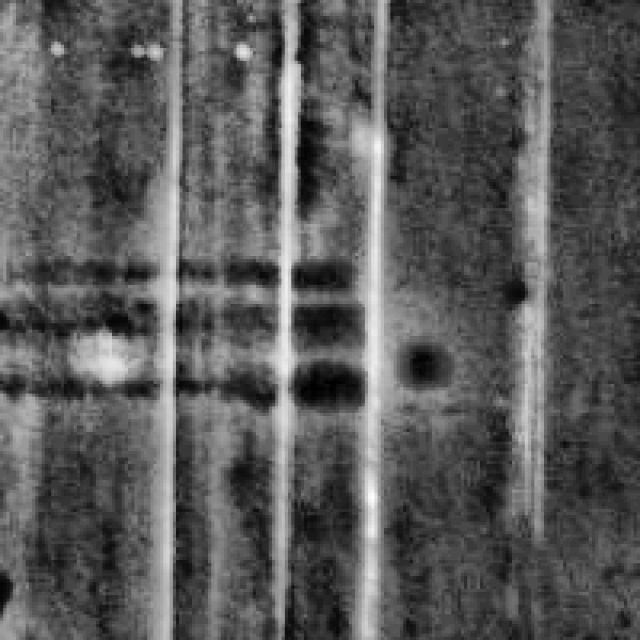Inclusion: (342, 9, 397, 634), (141, 6, 189, 634), (253, 3, 304, 534), (512, 28, 563, 534)
Patches: (0, 243, 374, 412)
